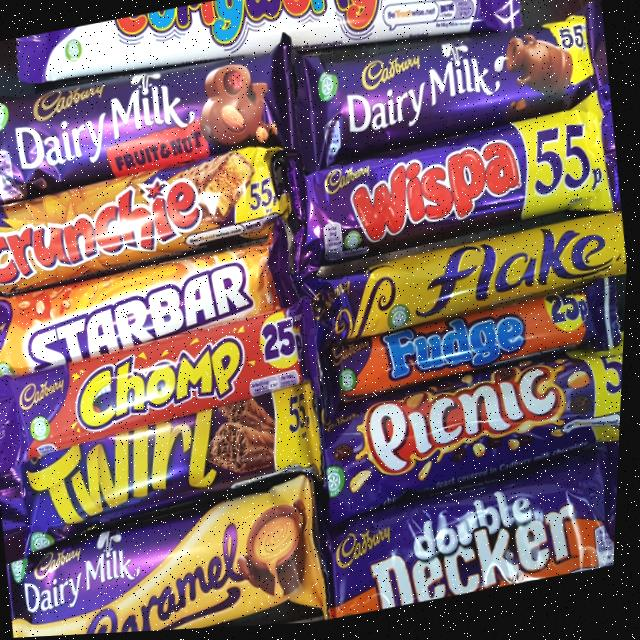cadbury: (279, 0, 614, 170), (6, 485, 327, 639), (326, 463, 623, 623), (0, 44, 297, 202)
